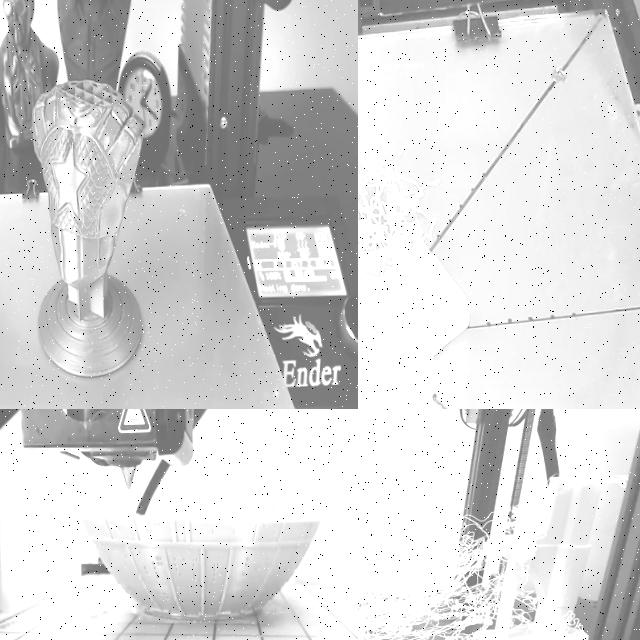spaghetti: (358, 26, 467, 409), (358, 498, 586, 640), (590, 466, 634, 494)
